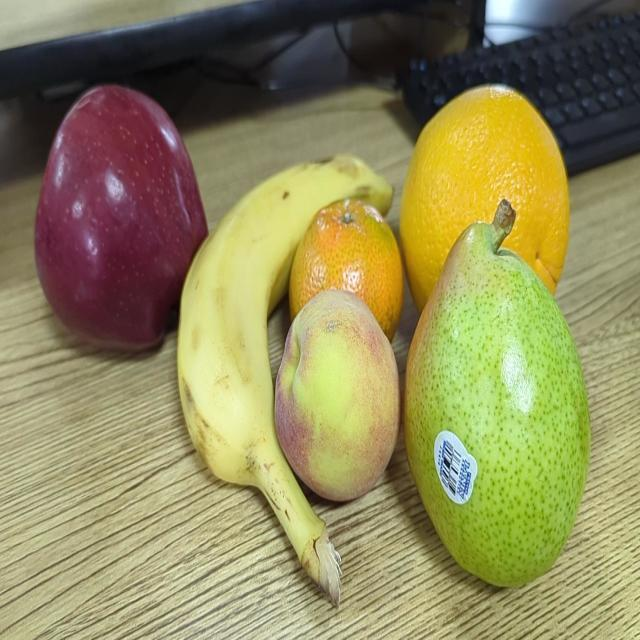Apel Merah: (31, 77, 192, 357)
Jeruk: (403, 75, 586, 288)
Jeruk Mandarin: (291, 201, 412, 335)
Persik: (270, 300, 402, 492)
Pir: (414, 227, 586, 591)
Pisang: (178, 118, 362, 542)
